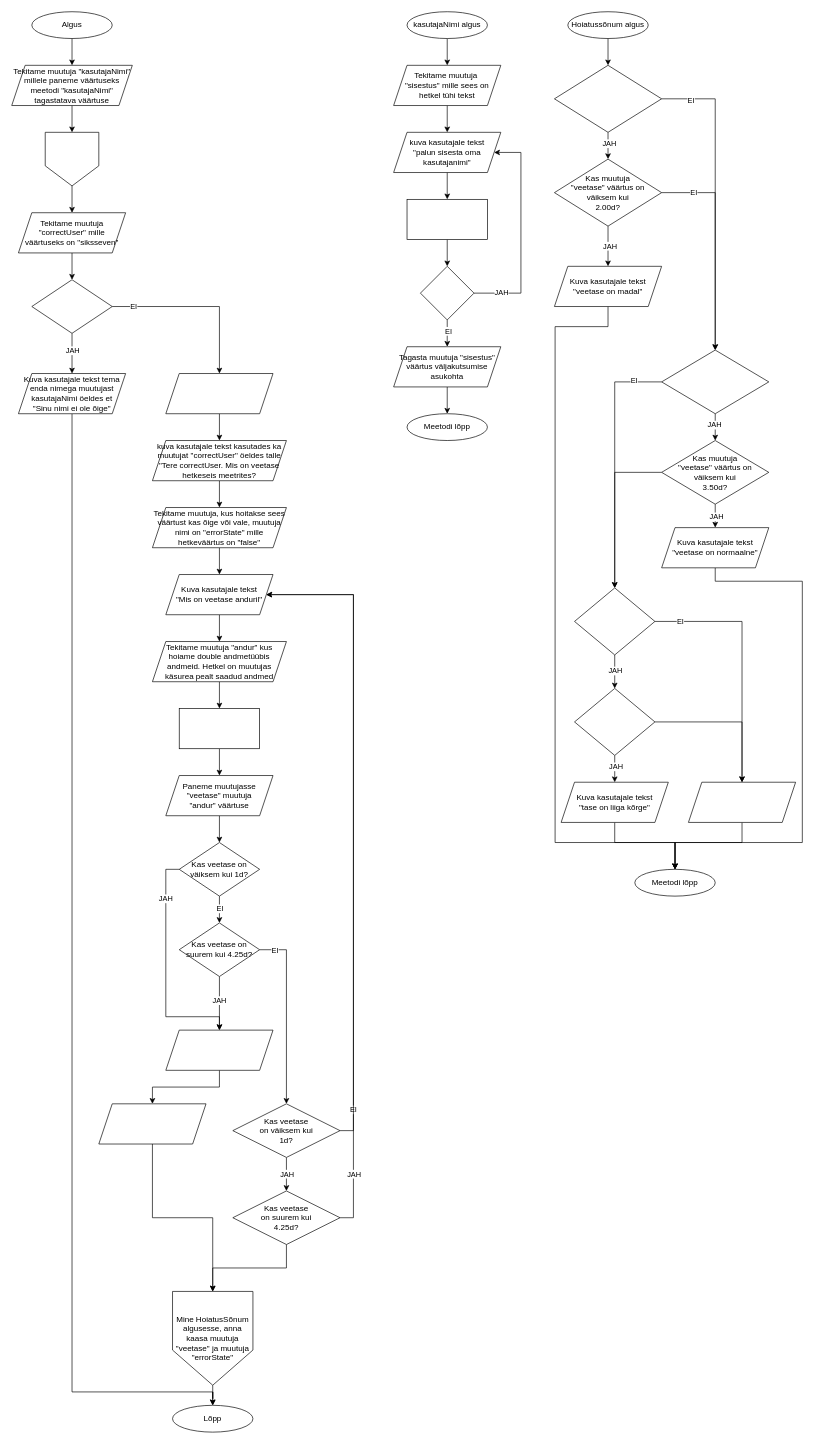
The diagram is 819 pixels wide and 1444 high, and some of its shapes have lost their labels. The centre of each missing label's shape, as x and y in pixels:
Kas muutuja "veetase" väärtus on suurem või võrdne kui 1.00d?: point (608, 98)
Kas muutuja "veetase" väärtus on suurem või võrdne kui 2.00d?: point (715, 381)
Kas muutuja "veetase" väärtus on suurem või võrdne kui 3.5d?: point (614, 621)
Kas muutuja "veetase" väärtus on väiksem kui 4.25d?: point (614, 721)
Kas sisestus on tühi?: point (447, 293)
katkestame tsükli tegevuse: point (152, 1123)
Kui correctUser ei ole sama nagu kasutajaNimi: point (71, 306)
Mine kasutajaNimi algusesse: point (72, 159)
Oota kuni kasutaja sisestab andmeid: point (219, 728)
oota kuni kasutaja sisestab muutujasse "sisestus" sisestuse: point (446, 219)
pane muutuja "errorState" väärtuseks "true": point (742, 802)
paneme muutujasse "errorState" väärtuse "true": point (219, 1049)
tekita muutuja "veetase" mille väärtuseks on 0 double: point (219, 393)
